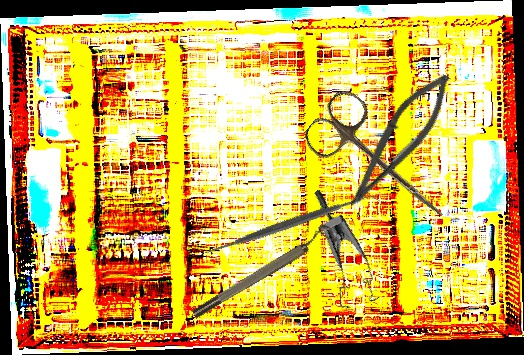Fixation Ring: (186, 221, 338, 322)
Iris Scissors: (298, 84, 467, 241)
Micro Scissor: (339, 63, 461, 219)
Spatula Surgical: (196, 132, 381, 317)
Speculum: (274, 188, 398, 321)
